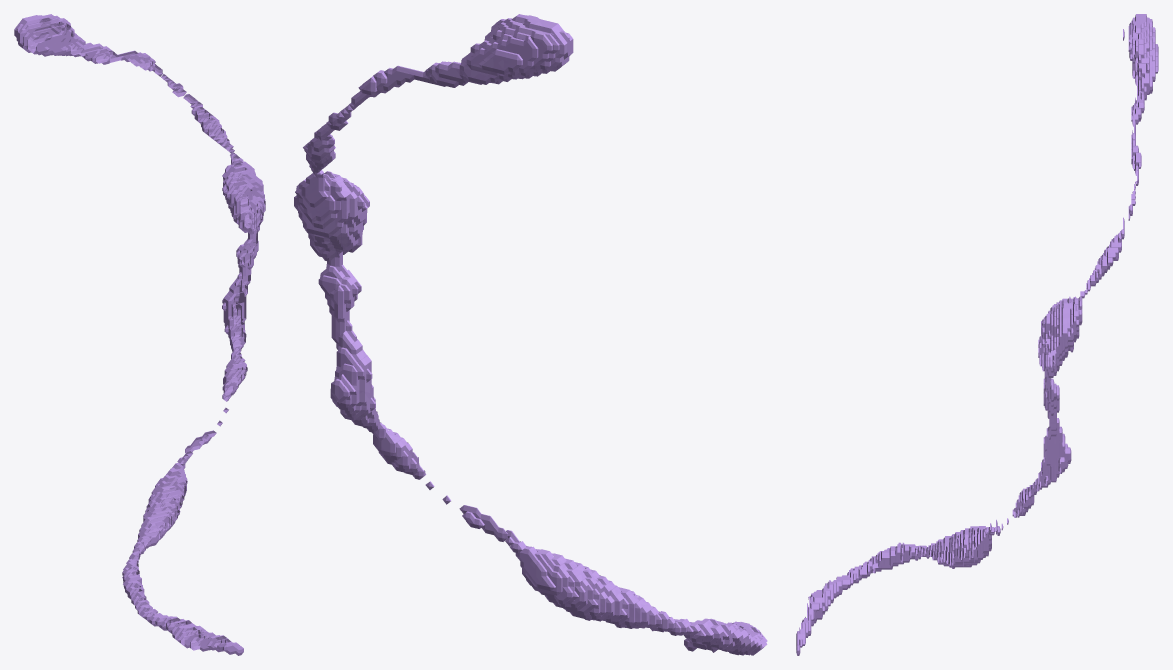
The model's file is SVV_AWAR.gltf.
The picture shows the model from 3 angles, left to right: view 1: azimuth 30°, elevation 25°; view 2: azimuth 150°, elevation 25°; view 3: azimuth 270°, elevation 25°; orthographic projection. The views are drawn at different scales.
Visible parts, largest first — view 1: AWAR; view 2: AWAR; view 3: AWAR.
Part boxes in pixels (x1,y1,x2,y2): AWAR: (14, 14, 265, 655); AWAR: (294, 14, 767, 655); AWAR: (796, 14, 1158, 655).
Bounding box in the file's own units: 37907 × 91182 × 49311.
